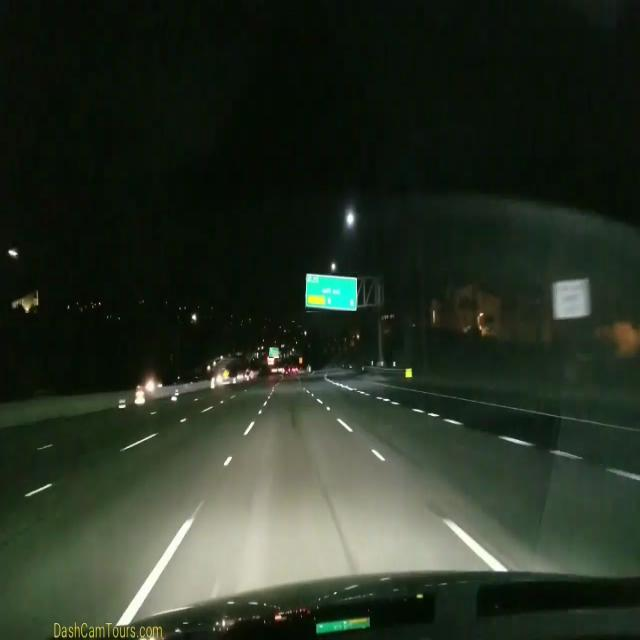street-signs: (306, 273, 357, 311), (269, 348, 279, 358)
